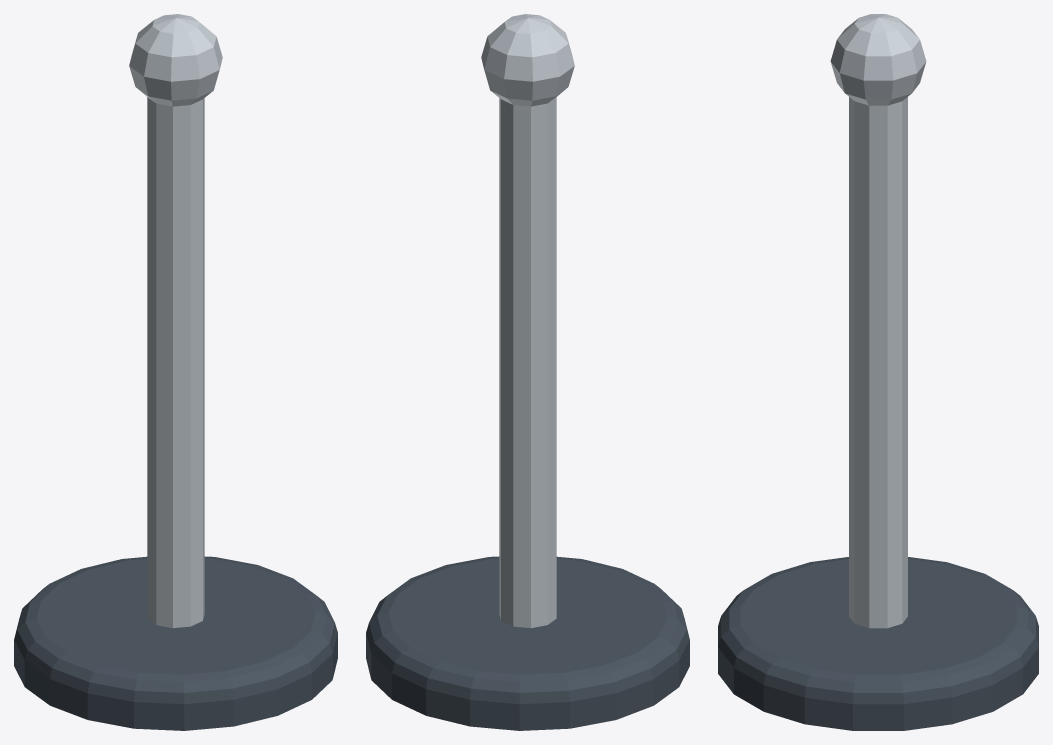
File: Checkpoint_Post.gltf
The picture shows the model from 3 angles, left to right: view 1: azimuth 30°, elevation 25°; view 2: azimuth 150°, elevation 25°; view 3: azimuth 270°, elevation 25°; orthographic projection.
Visible parts, largest first — view 1: Checkpoint_Post_baked; view 2: Checkpoint_Post_baked; view 3: Checkpoint_Post_baked.
Boxes of the visible parts, x1,y1,x2,y2 form: Checkpoint_Post_baked: (14, 14, 337, 730); Checkpoint_Post_baked: (366, 14, 689, 730); Checkpoint_Post_baked: (718, 14, 1038, 730).
Bounding box in the file's own units: 0.4346 × 0.965 × 0.4346.
